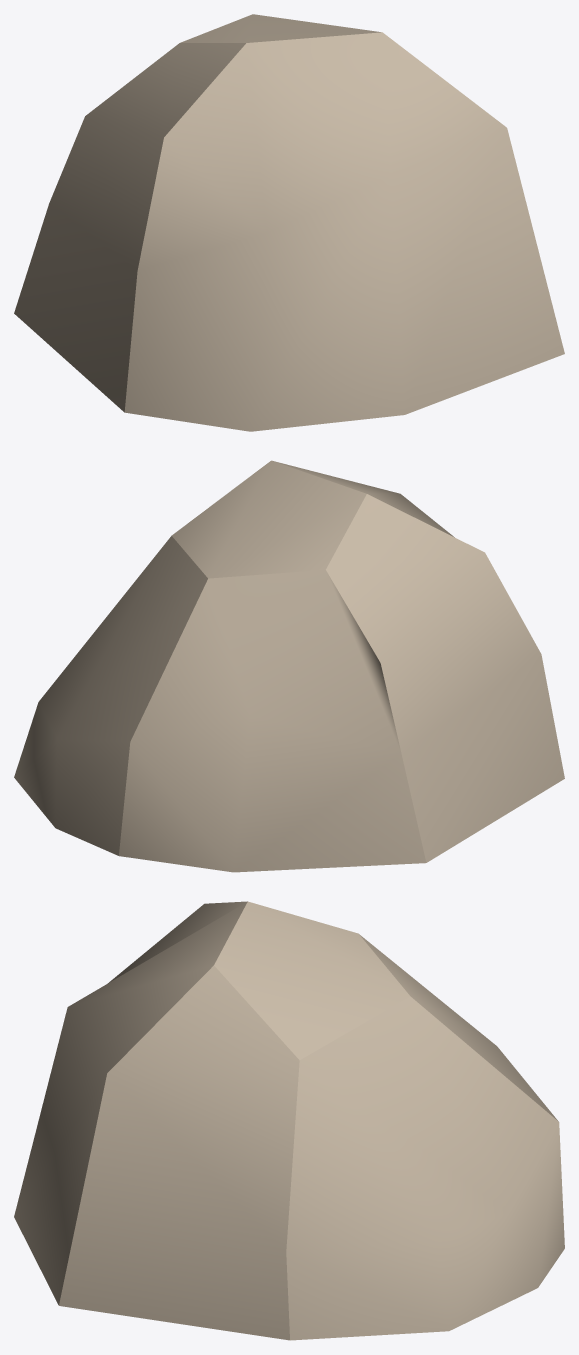
Rendered from Mid Rock 03.FBX.
The picture shows the model from 3 angles, top to bottom: view 1: azimuth 30°, elevation 25°; view 2: azimuth 150°, elevation 25°; view 3: azimuth 270°, elevation 25°; orthographic projection. The views are drawn at different scales.
Visible parts, largest first — view 1: Mid Rock 03; view 2: Mid Rock 03; view 3: Mid Rock 03.
Part boxes in pixels (x1=…): Mid Rock 03: x1=14, y1=14, x2=564, y2=431; Mid Rock 03: x1=14, y1=460, x2=564, y2=872; Mid Rock 03: x1=14, y1=901, x2=564, y2=1340.
Bounding box in the file's own units: 125 × 76.38 × 129.
Materials: 1 (1 with a texture image).
